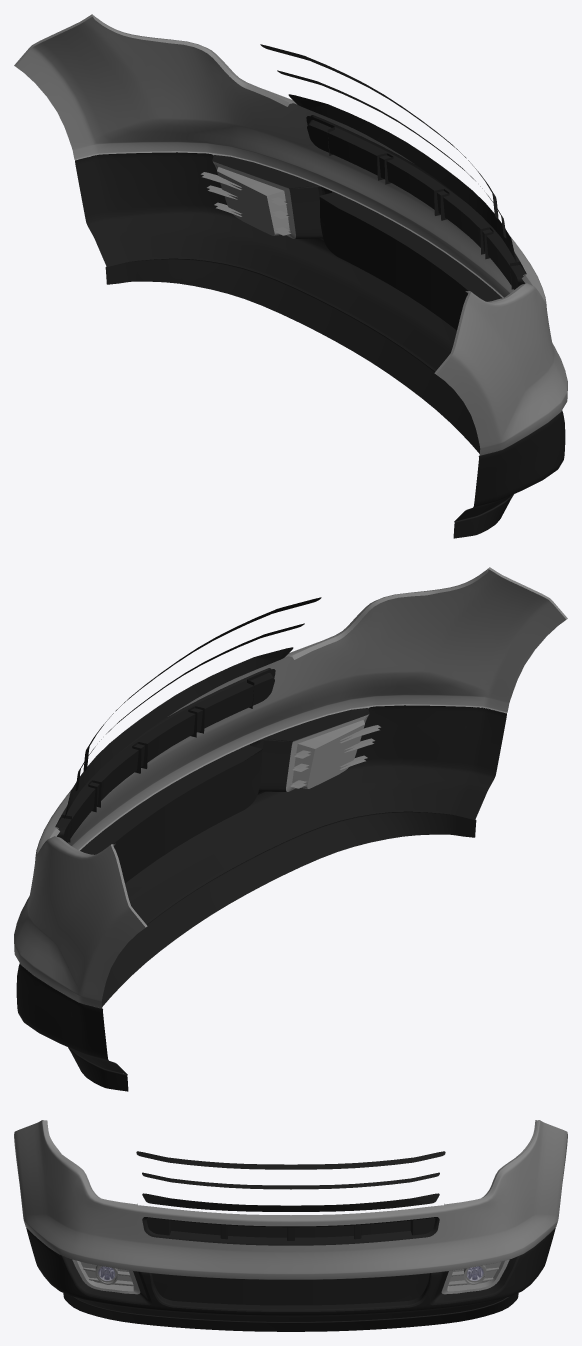
The picture shows the model from 3 angles, top to bottom: view 1: azimuth 30°, elevation 25°; view 2: azimuth 150°, elevation 25°; view 3: azimuth 270°, elevation 25°; orthographic projection. The views are drawn at different scales.
Visible parts, largest first — view 1: P740_021G_C_7_DaS_P740_021G_C, P740_021G_C_P740_021G_C_5_D, P740_021G_C_P740_021G_C_4_D, P740_021G_C_P740_021G_C_5_D_E, P740_021G_C_P740_021G_C_3_DaS, P740_021G_C_7_DaS_P740_021G_C_E; view 2: P740_021G_C_7_DaS_P740_021G_C, P740_021G_C_P740_021G_C_5_D, P740_021G_C_P740_021G_C_4_D, P740_021G_C_P740_021G_C_5_D_E, P740_021G_C_P740_021G_C_9_DaS, P740_021G_C_7_DaS_P740_021G_C_E; view 3: P740_021G_C_7_DaS_P740_021G_C, P740_021G_C_P740_021G_C_4_D, P740_021G_C_P740_021G_C_5_D, P740_021G_C_P740_021G_C_5_D_E, P740_021G_C_P740_021G_C_3_DaS, P740_021G_C_P740_021G_C_9_DaS, P740_021G_C_7_DaS_P740_021G_C_E.
Boxes of the visible parts, bbox=[...] form: P740_021G_C_7_DaS_P740_021G_C: bbox=[15, 14, 567, 455]; P740_021G_C_P740_021G_C_5_D: bbox=[75, 115, 565, 521]; P740_021G_C_P740_021G_C_4_D: bbox=[260, 44, 518, 330]; P740_021G_C_P740_021G_C_5_D_E: bbox=[105, 120, 526, 538]; P740_021G_C_P740_021G_C_3_DaS: bbox=[201, 161, 295, 238]; P740_021G_C_7_DaS_P740_021G_C_E: bbox=[14, 14, 532, 374]; P740_021G_C_7_DaS_P740_021G_C: bbox=[14, 567, 566, 1008]; P740_021G_C_P740_021G_C_5_D: bbox=[16, 668, 506, 1074]; P740_021G_C_P740_021G_C_4_D: bbox=[63, 597, 321, 883]; P740_021G_C_P740_021G_C_5_D_E: bbox=[55, 673, 476, 1091]; P740_021G_C_P740_021G_C_9_DaS: bbox=[286, 714, 380, 791]; P740_021G_C_7_DaS_P740_021G_C_E: bbox=[49, 567, 567, 927]; P740_021G_C_7_DaS_P740_021G_C: bbox=[14, 1120, 567, 1279]; P740_021G_C_P740_021G_C_4_D: bbox=[136, 1151, 445, 1305]; P740_021G_C_P740_021G_C_5_D: bbox=[26, 1217, 555, 1321]; P740_021G_C_P740_021G_C_5_D_E: bbox=[62, 1218, 519, 1331]; P740_021G_C_P740_021G_C_3_DaS: bbox=[441, 1259, 509, 1294]; P740_021G_C_P740_021G_C_9_DaS: bbox=[72, 1259, 140, 1294]; P740_021G_C_7_DaS_P740_021G_C_E: bbox=[43, 1120, 538, 1197].
Size of the model in its own units: 68.07 by 71.54 by 208.
